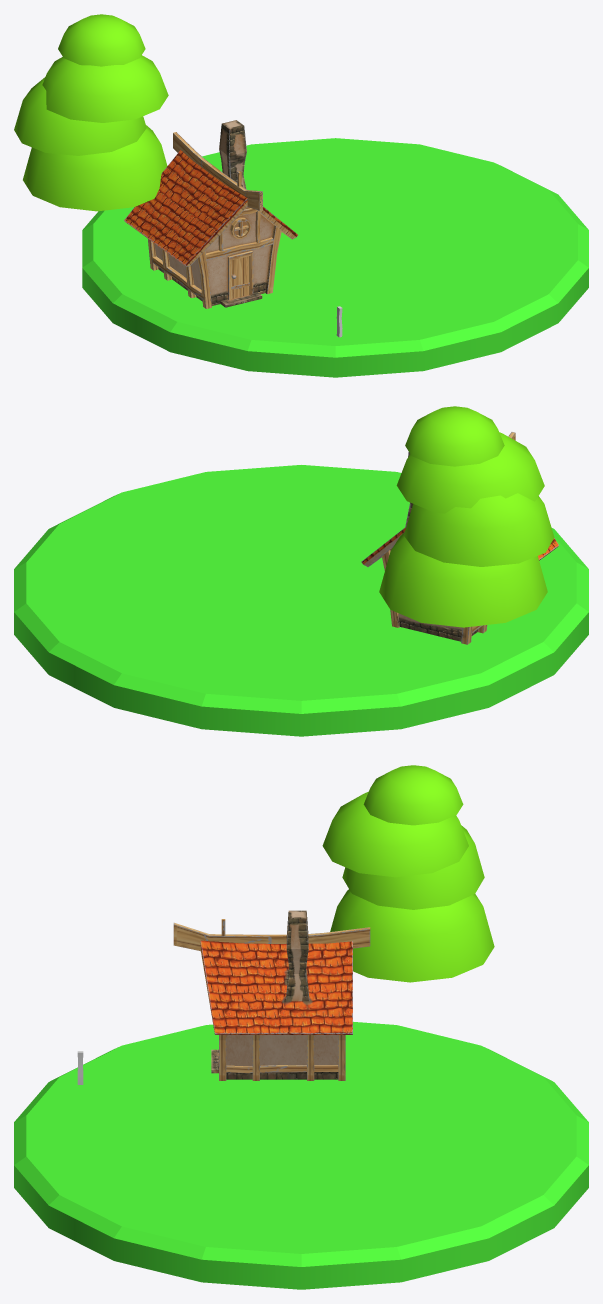
Rendered from House_result.FBX.
The picture shows the model from 3 angles, top to bottom: view 1: azimuth 30°, elevation 25°; view 2: azimuth 150°, elevation 25°; view 3: azimuth 270°, elevation 25°; orthographic projection. The views are drawn at different scales.
Visible parts, largest first — view 1: Cylinder001, Sphere002, Sphere003; view 2: Cylinder001, Sphere002, Sphere003; view 3: Cylinder001, Sphere002, Sphere003.
Boxes of the visible parts, x1,y1,x2,y2 form: Cylinder001: (82, 138, 588, 377); Sphere002: (14, 14, 168, 211); Sphere003: (124, 120, 297, 308); Cylinder001: (14, 465, 588, 736); Sphere002: (379, 406, 554, 627); Sphere003: (361, 432, 558, 644); Cylinder001: (14, 1021, 588, 1289); Sphere002: (322, 765, 494, 982); Sphere003: (173, 910, 370, 1080).
Size of the model in its own units: 157 by 79.25 by 141.
3 materials, 1 textured.
